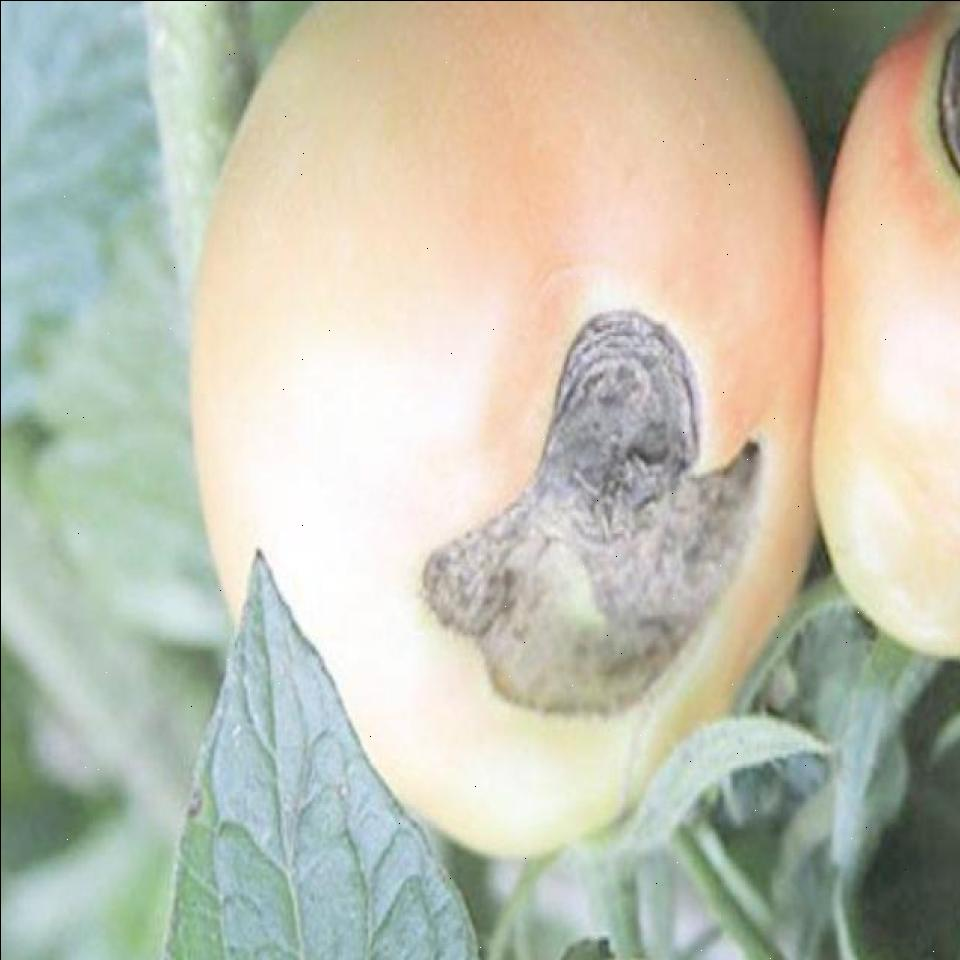Blossom_end_rot: (369, 299, 769, 728), (918, 10, 954, 258)
